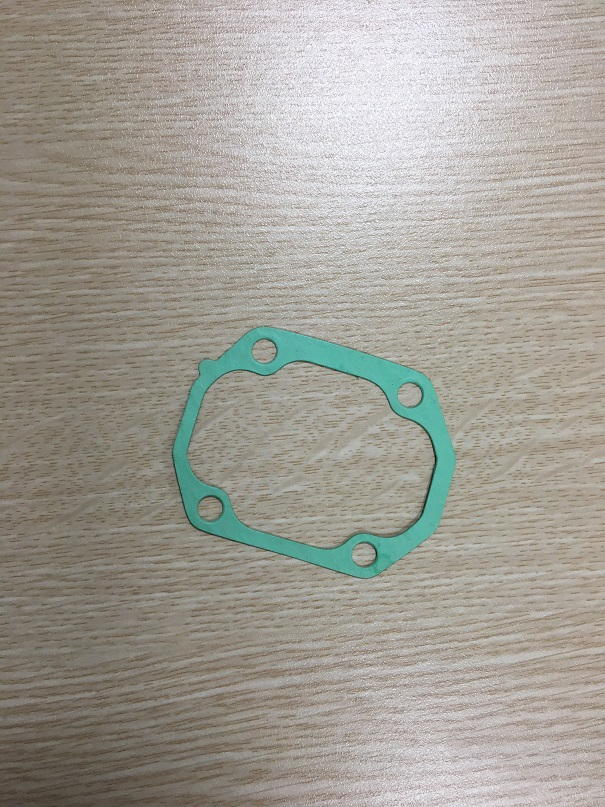type2: (164, 314, 457, 589)
